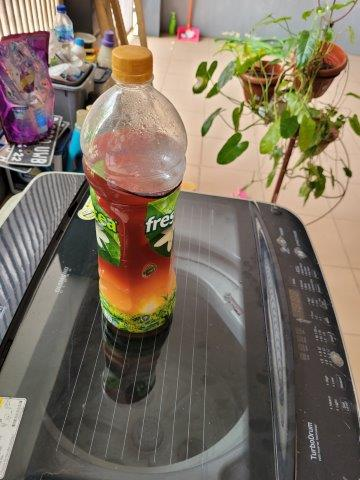botolplastik: (81, 47, 188, 334), (52, 4, 74, 57)
